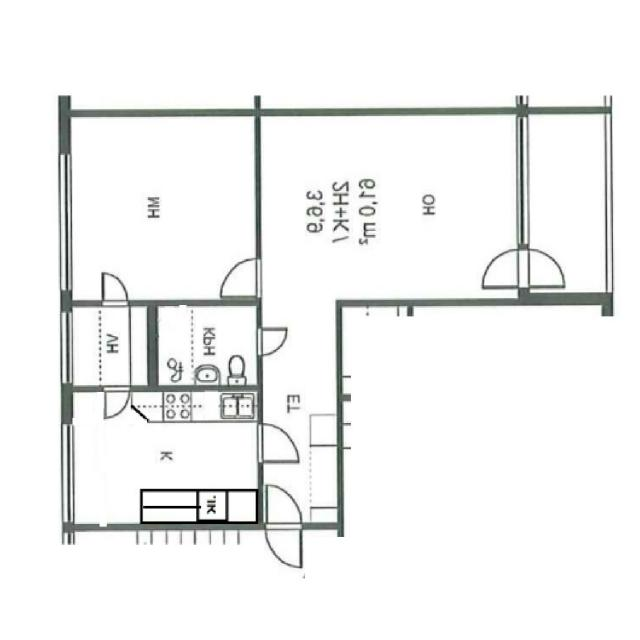door: (482, 249, 530, 287), (516, 249, 564, 287), (256, 423, 298, 462), (222, 258, 262, 297), (267, 522, 301, 566), (267, 486, 301, 530), (256, 329, 286, 356), (103, 274, 127, 306), (105, 386, 129, 416)
